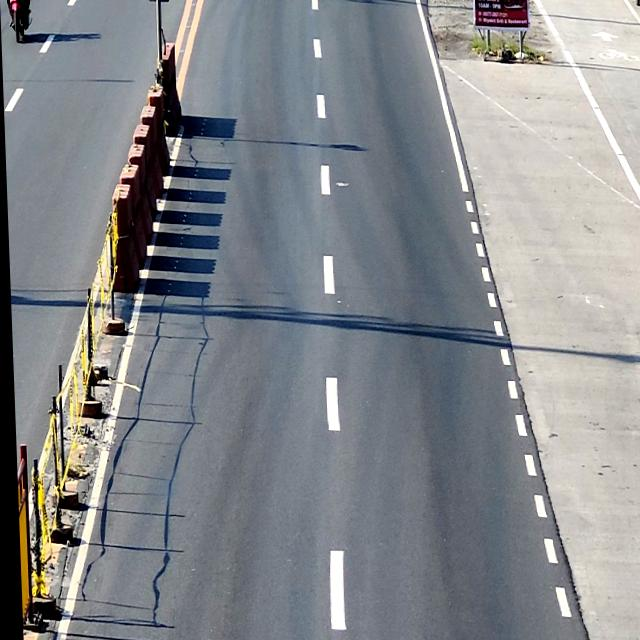Motorcycle: (7, 0, 29, 45)
